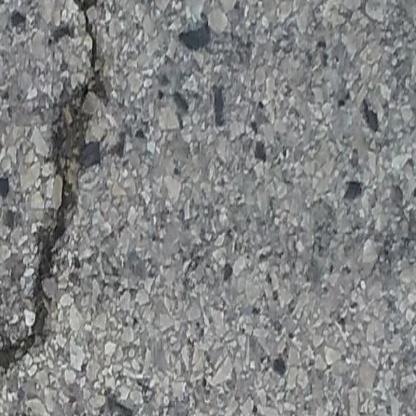Cracks: (0, 0, 112, 416)
